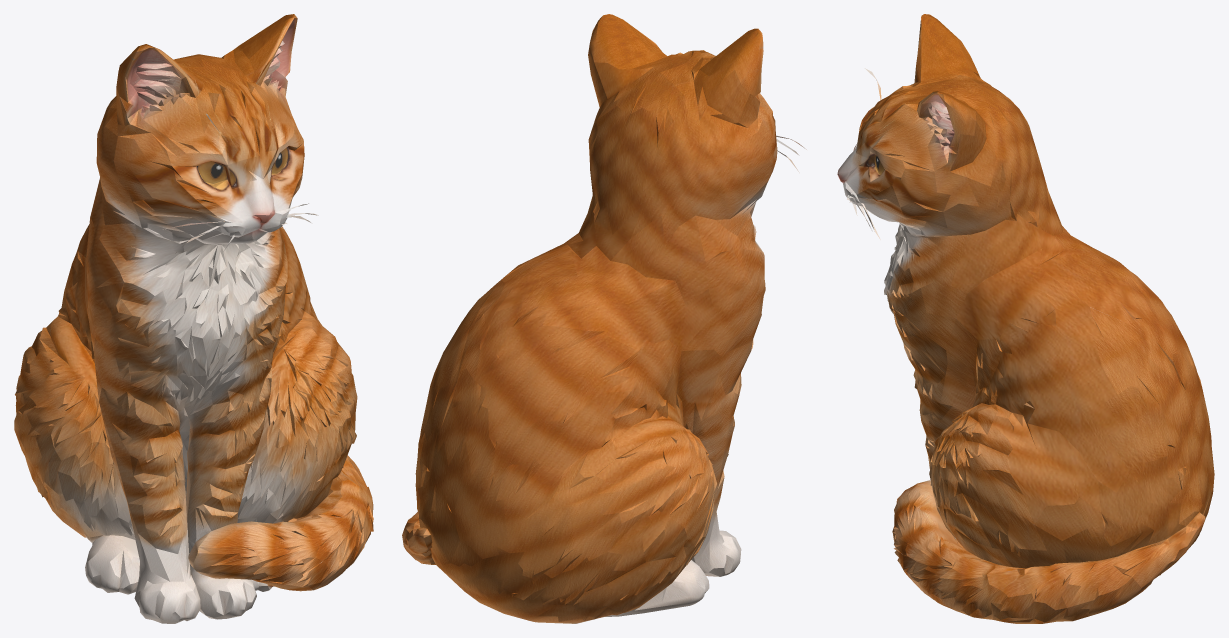
Rendered from hf_20261122_074934_03d3ebc7-0851-4cf0-ba72-83bc3c8d7353.glb.
3 views of the same model, side by side, from view 1: azimuth 30°, elevation 25°; view 2: azimuth 150°, elevation 25°; view 3: azimuth 270°, elevation 25° (orthographic). The views are drawn at different scales.
Size of the model in its own units: 1.04 by 1.9 by 1.28.
Materials: 1 (1 with a texture image).
